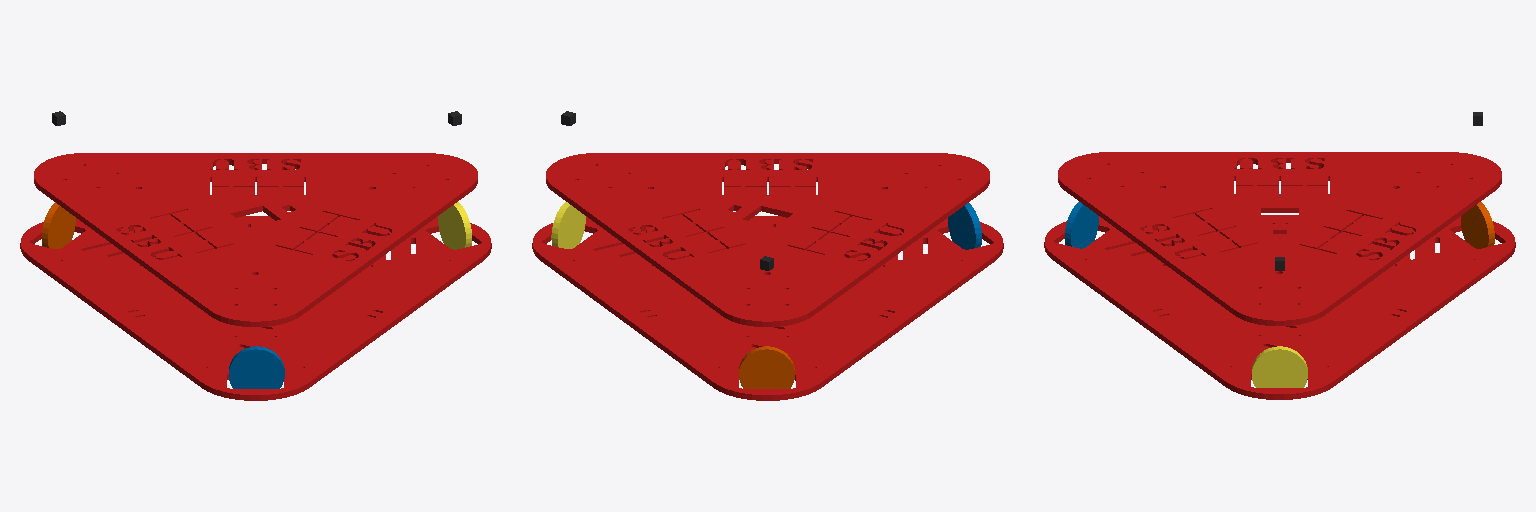
robot.urdf — robot:
<?xml version="1.0" ?>
<!-- =================================================================================== -->
<!-- |    This document was autogenerated by xacro from my_model.xacro                 | -->
<!-- |    EDITING THIS FILE BY HAND IS NOT RECOMMENDED                                 | -->
<!-- =================================================================================== -->
<robot name="robot">
  <material name="black">
    <color rgba="0.0 0.0 0.0 1.0"/>
  </material>
  <material name="blue">
    <color rgba="0.203125 0.23828125 0.28515625 1.0"/>
  </material>
  <material name="green">
    <color rgba="0.0 0.8 0.0 1.0"/>
  </material>
  <material name="grey">
    <color rgba="0.2 0.2 0.2 1.0"/>
  </material>
  <material name="orange">
    <color rgba="1.0 0.423529411765 0.0392156862745 1.0"/>
  </material>
  <material name="brown">
    <color rgba="0.870588235294 0.811764705882 0.764705882353 1.0"/>
  </material>
  <material name="red">
    <color rgba="0.80078125 0.12890625 0.1328125 1.0"/>
  </material>
  <material name="white">
    <color rgba="1.0 1.0 1.0 1.0"/>
  </material>
  <gazebo reference="link_chassis">
    <material>Gazebo/Orange</material>
  </gazebo>
  <gazebo reference="link_left_wheel">
    <material>Gazebo/Orange</material>
  </gazebo>
  <gazebo reference="link_right_wheel">
    <material>Gazebo/Orange</material>
  </gazebo>
  <gazebo reference="link_left2_wheel">
    <material>Gazebo/Orange</material>
  </gazebo>
  <gazebo reference="camera_link">
    <material>Gazebo/Blue</material>
  </gazebo>
  <gazebo reference="sonar_link">
    <material>Gazebo/Black</material>
  </gazebo>
  <gazebo>
    <plugin filename="libgazebo_ros_control.so" name="gazebo_ros_control">
      <robotNamespace>/robot</robotNamespace>
    </plugin>
  </gazebo>
  <gazebo>
    <plugin filename="libgazebo_ros_diff_drive.so" name="differential_drive_controller">
      <alwaysOn>true</alwaysOn>
      <updateRate>20</updateRate>
      <leftJoint>joint_left_wheel</leftJoint>
      <rightJoint>joint_right_wheel</rightJoint>
      <wheelSeparation>0.4</wheelSeparation>
      <wheelDiameter>0.2</wheelDiameter>
      <torque>0.1</torque>
      <commandTopic>cmd_vel</commandTopic>
      <odometryTopic>odom</odometryTopic>
      <odometryFrame>odom</odometryFrame>
      <robotBaseFrame>link_chassis</robotBaseFrame>
    </plugin>
  </gazebo>
  <gazebo reference="sensor_laser">
    <sensor name="head_hokuyo_sensor" type="ray">
      <pose>0 0 0 0 0 0</pose>
      <visualize>false</visualize>
      <update_rate>20</update_rate>
      <ray>
        <scan>
          <horizontal>
            <samples>720</samples>
            <resolution>1</resolution>
            <min_angle>-1.570796</min_angle>
            <max_angle>1.570796</max_angle>
          </horizontal>
        </scan>
        <range>
          <min>0.10</min>
          <max>10.0</max>
          <resolution>0.01</resolution>
        </range>
        <noise>
          <type>gaussian</type>
          <mean>0.0</mean>
          <stddev>0.01</stddev>
        </noise>
      </ray>
      <plugin filename="libgazebo_ros_laser.so" name="gazebo_ros_head_hokuyo_controller">
        <topicName>/m2wr/laser/scan</topicName>
        <frameName>sensor_laser</frameName>
      </plugin>
    </sensor>
  </gazebo>
  <link name="base_link">
    <inertial>
      <mass value="20"/>
      <origin rpy="0 0 3.14" xyz="0 0 0.52"/>
      <inertia ixx="1.392949" ixy="0" ixz="-0.000108" iyy="1.392846" iyz="-0.000000" izz="-1.000000"/>
    </inertial>
    <visual>
      <origin rpy="0 0 3.14" xyz="0 0 0.52"/>
      <geometry>
        <mesh filename="package://rob_pkg/meshes/two_plate.dae" scale="1 1 1"/>
      </geometry>
      <material name="red"/>
    </visual>
    <collision>
      <origin rpy="0 0 3.14" xyz="0 0 0.52"/>
      <geometry>
        <mesh filename="package://rob_pkg/meshes/two_plate.dae"/>
      </geometry>
    </collision>
  </link>
  <link name="camera_link">
    <collision>
      <origin rpy="0 0 0" xyz="0 0 0.43"/>
      <geometry>
        <box size="0.1 0.1 0.1"/>
      </geometry>
    </collision>
    <visual>
      <origin rpy="0 0 0" xyz="0 0 0.43"/>
      <geometry>
        <box size="0.1 0.1 0.1"/>
      </geometry>
      <material name="grey">
        <color rgba="0.2 0.2 0.2 1.0"/>
      </material>
    </visual>
    <inertial>
      <mass value="0.001"/>
      <inertia ixx="1.6666666666666669e-06" ixy="0.0" ixz="0.0" iyy="1.6666666666666669e-06" iyz="0.0" izz="1.6666666666666669e-06"/>
    </inertial>
  </link>
  <joint name="camera_joint" type="fixed">
    <parent link="base_link"/>
    <child link="camera_link"/>
    <origin rpy="0 0 0" xyz="2.195 0 1"/>
    <axis xyz="1 0 0"/>
  </joint>
  <gazebo reference="camera_link">
    <sensor name="camera_camera_sensor" type="camera">
      <update_rate>30.0</update_rate>
      <camera>
        <pose>0.035 0 0.078 0 0 0</pose>
        <horizontal_fov>1.4835298641951802</horizontal_fov>
        <image>
          <format>R8G8B8</format>
          <width>1020</width>
          <height>1020</height>
        </image>
        <clip>
          <near>0.01</near>
          <far>100</far>
        </clip>
      </camera>
      <plugin filename="libgazebo_ros_camera.so" name="camera_camera_controller">
        <alwaysOn>true</alwaysOn>
        <updateRate>0.0</updateRate>
        <cameraName>robot_sensor/camera</cameraName>
        <imageTopicName>image_raw</imageTopicName>
        <cameraInfoTopicName>camera_info</cameraInfoTopicName>
        <frameName>camera_link</frameName>
        <hackBaseline>0.07</hackBaseline>
        <distortionK1>0.0</distortionK1>
        <distortionK2>0.0</distortionK2>
        <distortionK3>0.0</distortionK3>
        <distortionT1>0.0</distortionT1>
        <distortionT2>0.0</distortionT2>
      </plugin>
    </sensor>
  </gazebo>
  <link name="sonar_link">
    <collision>
      <origin rpy="0 0 0" xyz="0 0 0.43"/>
      <geometry>
        <box size="0.1 0.1 0.1"/>
      </geometry>
    </collision>
    <visual>
      <origin rpy="0 0 0" xyz="0 0 0.43"/>
      <geometry>
        <box size="0.1 0.1 0.1"/>
      </geometry>
      <material name="grey">
        <color rgba="0.2 0.2 0.2 1.0"/>
      </material>
    </visual>
    <inertial>
      <mass value="0.001"/>
      <inertia ixx="1.6666666666666669e-06" ixy="0.0" ixz="0.0" iyy="1.6666666666666669e-06" iyz="0.0" izz="1.6666666666666669e-06"/>
    </inertial>
  </link>
  <joint name="sonar_joint" type="fixed">
    <parent link="base_link"/>
    <child link="sonar_link"/>
    <origin rpy="0 0 0" xyz="-1.1 1.9 1"/>
    <axis xyz="1 0 0"/>
  </joint>
  <gazebo reference="sonar_link">
    <sensor name="sonar" type="ray">
      <pose>0.25 0 0 0 0 0</pose>
      <update_rate>5</update_rate>
      <ray>
        <scan>
          <horizontal>
            <samples>5</samples>
            <resolution>1.0</resolution>
            <min_angle>-0.25</min_angle>
            <max_angle>0.25</max_angle>
          </horizontal>
          <vertical>
            <samples>5</samples>
            <resolution>1</resolution>
            <min_angle>-0.25</min_angle>
            <max_angle>0.25</max_angle>
          </vertical>
        </scan>
        <range>
          <min>0.01</min>
          <max>0.75</max>
          <resolution>0.01</resolution>
        </range>
      </ray>
      <plugin filename="libgazebo_ros_range.so" name="gazebo_ros_range">
        <gaussianNoise>0.005</gaussianNoise>
        <alwaysOn>true</alwaysOn>
        <updateRate>5</updateRate>
        <topicName>sonar</topicName>
        <frameName>sonar_link</frameName>
        <fov>0.5</fov>
        <radiation>ultrasound</radiation>
      </plugin>
    </sensor>
  </gazebo>
  <link name="link_right_wheel">
    <mass value="1"/>
    <origin rpy="0 1.5707963267948966 0" xyz="2.195 0 0.27"/>
    <collision name="link_right_wheel_collision">
      <geometry>
        <cylinder length="0.07" radius="0.27"/>
      </geometry>
    </collision>
    <visual name="link_right_wheel_visual">
      <geometry>
        <cylinder length="0.07" radius="0.27"/>
      </geometry>
    </visual>
    <inertial>
      <mass value="1"/>
      <inertia ixx="0.018633333333333335" ixy="0" ixz="0" iyy="0.018633333333333335" iyz="0" izz="0.03645"/>
    </inertial>
  </link>
  <joint name="joint_right_wheel" type="continuous">
    <origin rpy="0 1.5707963267948966 0" xyz="2.195 0 0.27"/>
    <child link="link_right_wheel"/>
    <parent link="base_link"/>
    <axis rpy="0 0 0" xyz="0 0 1"/>
  </joint>
  <!-- Rear wheels transmission -->
  <transmission name="transmission_right_wheel">
    <type>transmission_interface/SimpleTransmission</type>
    <joint name="joint_right_wheel">
      <hardwareInterface>hardware_interface/EffortJointInterface</hardwareInterface>
    </joint>
    <actuator name="motor_right_wheel">
      <hardwareInterface>hardware_interface/EffortJointInterface</hardwareInterface>
      <mechanicalReduction>1</mechanicalReduction>
    </actuator>
  </transmission>
  <link name="link_left_wheel">
    <mass value="1"/>
    <origin rpy="0 1.5707963267948966 1.0472" xyz="-1.1 -1.9 0.27"/>
    <collision name="link_left_wheel_collision">
      <geometry>
        <cylinder length="0.07" radius="0.27"/>
      </geometry>
    </collision>
    <visual name="link_left_wheel_visual">
      <geometry>
        <cylinder length="0.07" radius="0.27"/>
      </geometry>
    </visual>
    <inertial>
      <mass value="0.07"/>
      <inertia ixx="0.0013043333333333336" ixy="0" ixz="0" iyy="0.0013043333333333336" iyz="0" izz="0.002551500000000001"/>
    </inertial>
  </link>
  <joint name="joint_left_wheel" type="continuous">
    <origin rpy="0 1.5707963267948966 1.0472" xyz="-1.1 -1.9 0.27"/>
    <child link="link_left_wheel"/>
    <parent link="base_link"/>
    <axis rpy="0 0 0" xyz="0 0 1"/>
  </joint>
  <!-- Rear wheels transmission -->
  <transmission name="transmission_left_wheel">
    <type>transmission_interface/SimpleTransmission</type>
    <joint name="joint_left_wheel">
      <hardwareInterface>hardware_interface/EffortJointInterface</hardwareInterface>
    </joint>
    <actuator name="motor_left_wheel">
      <hardwareInterface>hardware_interface/EffortJointInterface</hardwareInterface>
      <mechanicalReduction>1</mechanicalReduction>
    </actuator>
  </transmission>
  <link name="link_left2_wheel">
    <mass value="1"/>
    <origin rpy="0 1.5707963267948966 2.0944" xyz="-1.1 1.9 0.27"/>
    <collision name="link_left2_wheel_collision">
      <geometry>
        <cylinder length="0.07" radius="0.27"/>
      </geometry>
    </collision>
    <visual name="link_left2_wheel_visual">
      <geometry>
        <cylinder length="0.07" radius="0.27"/>
      </geometry>
    </visual>
    <inertial>
      <mass value="1"/>
      <inertia ixx="0.018633333333333335" ixy="0" ixz="0" iyy="0.018633333333333335" iyz="0" izz="0.03645"/>
    </inertial>
  </link>
  <joint name="joint_left2_wheel" type="continuous">
    <origin rpy="0 1.5707963267948966 2.0944" xyz="-1.1 1.9 0.27"/>
    <child link="link_left2_wheel"/>
    <parent link="base_link"/>
    <axis rpy="0 0 0" xyz="0 0 1"/>
  </joint>
  <!-- Rear wheels transmission -->
  <transmission name="transmission_left2_wheel">
    <type>transmission_interface/SimpleTransmission</type>
    <joint name="joint_left2_wheel">
      <hardwareInterface>hardware_interface/EffortJointInterface</hardwareInterface>
    </joint>
    <actuator name="motor_left2_wheel">
      <hardwareInterface>hardware_interface/EffortJointInterface</hardwareInterface>
      <mechanicalReduction>1</mechanicalReduction>
    </actuator>
  </transmission>
</robot>

--- Facts derived from the render (not from the file) ---
Views: 3 orthographic renders of the robot side by side, from view 1: azimuth 30°, elevation 25°; view 2: azimuth 150°, elevation 25°; view 3: azimuth 270°, elevation 25°.
Model robot with 6 links and 5 joints (3 continuous, 2 fixed), rooted at base_link, posed every joint at zero.
Visible links, largest first — view 1: base_link, link_left_wheel, link_right_wheel, link_left2_wheel; view 2: base_link, link_left2_wheel, link_right_wheel, link_left_wheel; view 3: base_link, link_right_wheel, link_left2_wheel, link_left_wheel.
Link boxes in pixels (bbox=[...]): base_link: bbox=[20, 153, 491, 400]; link_left_wheel: bbox=[229, 346, 284, 388]; link_right_wheel: bbox=[438, 202, 471, 249]; link_left2_wheel: bbox=[42, 202, 75, 248]; base_link: bbox=[532, 153, 1003, 400]; link_left2_wheel: bbox=[739, 346, 794, 388]; link_right_wheel: bbox=[551, 202, 585, 248]; link_left_wheel: bbox=[948, 203, 981, 249]; base_link: bbox=[1044, 152, 1515, 399]; link_right_wheel: bbox=[1252, 346, 1307, 387]; link_left2_wheel: bbox=[1461, 202, 1494, 248]; link_left_wheel: bbox=[1065, 202, 1098, 248].
Size in the robot's own frame: 4.08 by 4.52 by 1.48 metres.
Meshes: 1 distinct files referenced, 1 mesh visuals loaded (1 Collada DAE).
